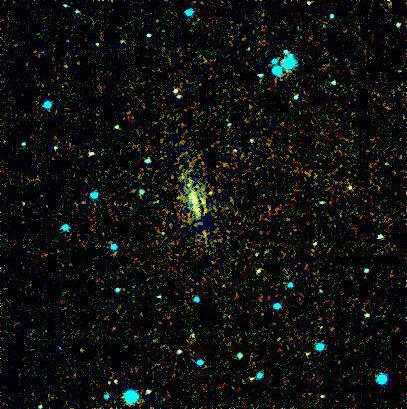star: (195, 176, 225, 206)
